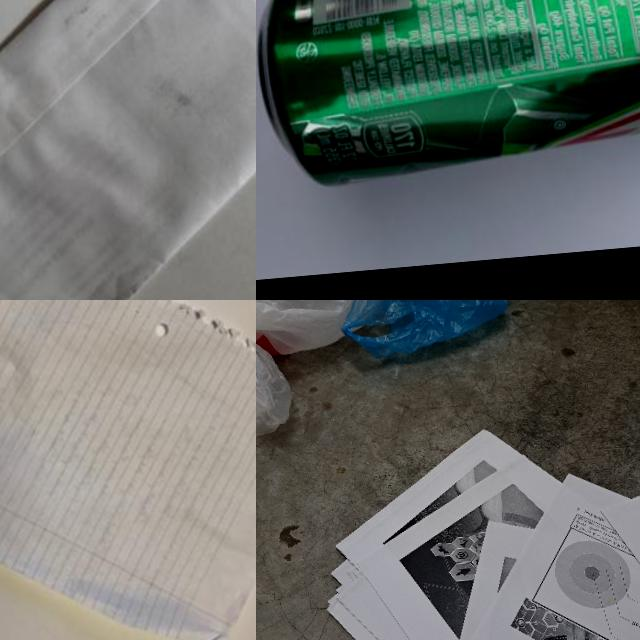lata: (256, 0, 640, 193)
papel: (0, 300, 256, 640), (306, 409, 640, 640), (0, 0, 256, 300)
sacola plástica: (305, 300, 522, 364), (256, 300, 378, 365), (256, 312, 297, 462)
